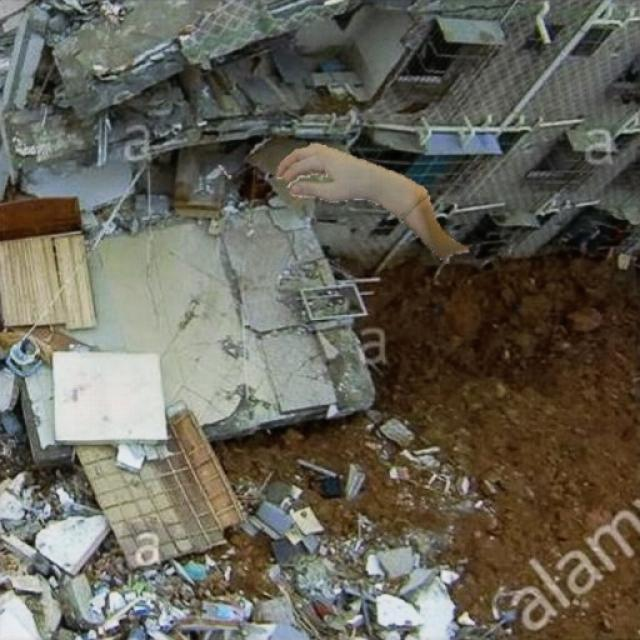Person in Rubble: (218, 142, 468, 264)
